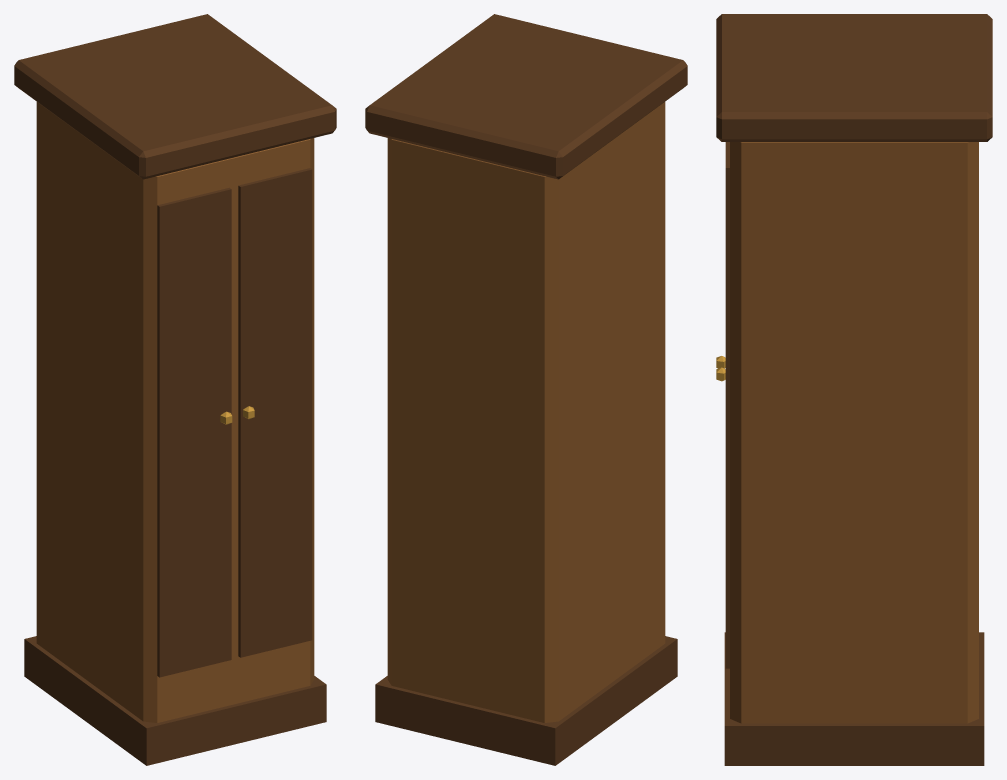
File: PR_Inn_Dolap.fbx
3 renders of one model, left to right at view 1: azimuth 30°, elevation 25°; view 2: azimuth 150°, elevation 25°; view 3: azimuth 270°, elevation 25°, orthographic. The views are drawn at different scales.
Visible parts, largest first — view 1: PR_Inn_Dolap; view 2: PR_Inn_Dolap; view 3: PR_Inn_Dolap.
Part boxes in pixels (x1=…): PR_Inn_Dolap: x1=14, y1=14, x2=336, y2=765; PR_Inn_Dolap: x1=365, y1=14, x2=687, y2=765; PR_Inn_Dolap: x1=716, y1=14, x2=992, y2=765.
Bounding box in the file's own units: 0.44 × 1.31 × 0.5.
